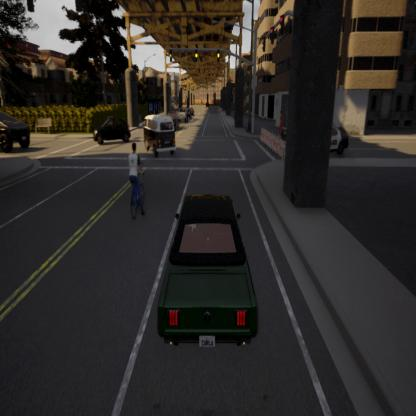Cars: (159, 192, 259, 349), (281, 124, 348, 154), (145, 116, 176, 159), (128, 143, 144, 218), (0, 112, 30, 150), (95, 119, 130, 143), (167, 110, 179, 129), (178, 106, 190, 123)
Pedestrian: (278, 110, 284, 132)
